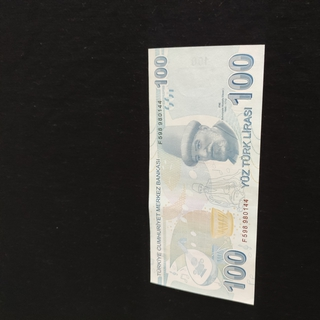100TLBack: (147, 44, 265, 305)
